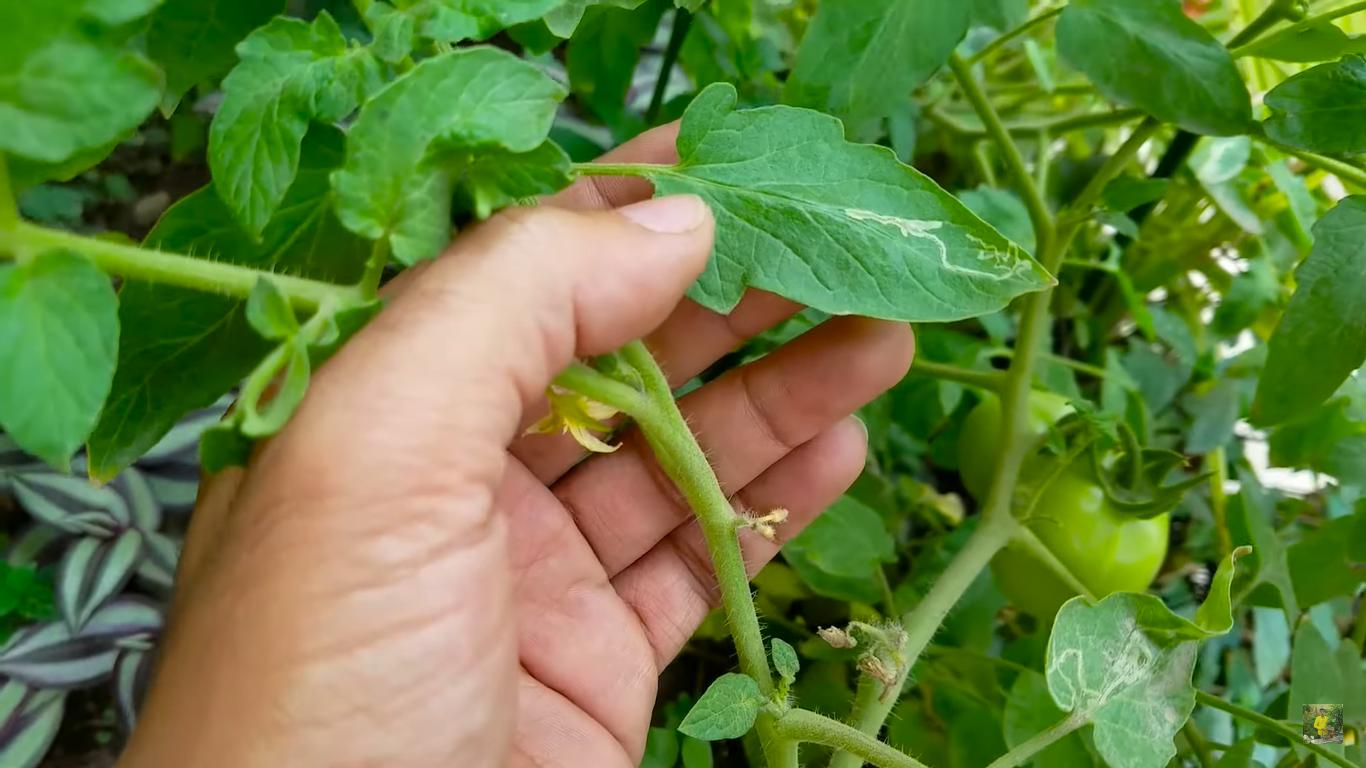Healthy: (329, 42, 570, 265), (206, 13, 374, 243), (780, 0, 1008, 139), (1055, 0, 1259, 140), (0, 248, 124, 474), (1251, 191, 1366, 431)
Leaf_Miner: (656, 78, 1060, 330), (1042, 542, 1254, 768)
